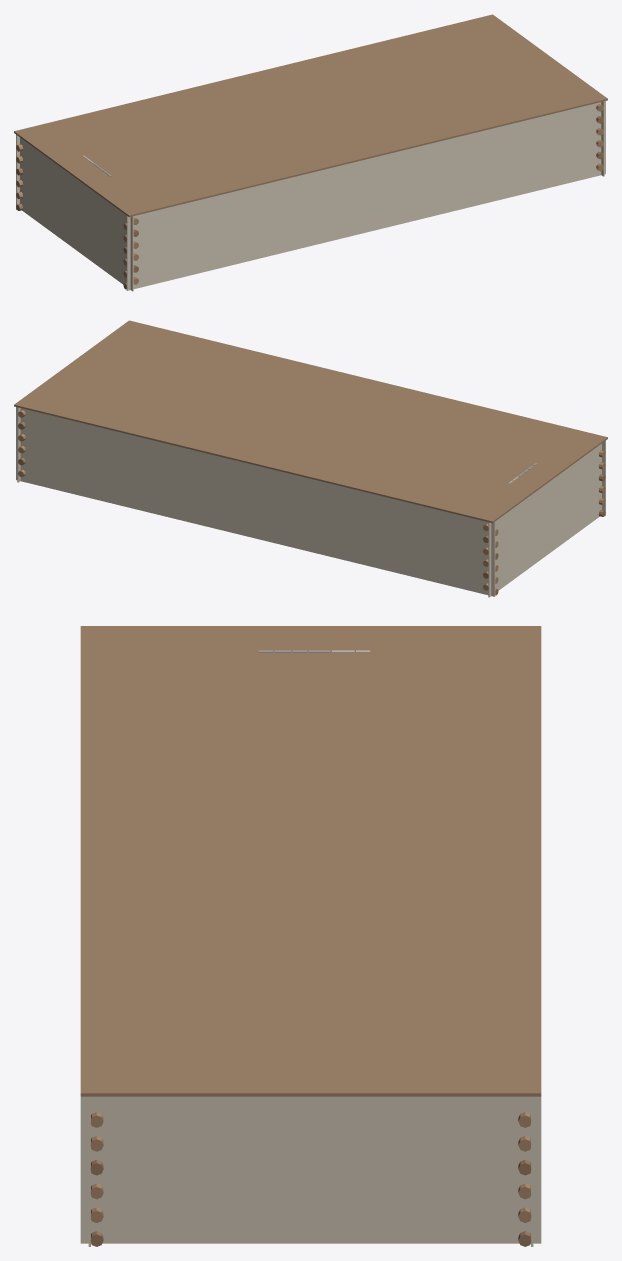
Rendered from room.glb.
The picture shows the model from 3 angles, top to bottom: view 1: azimuth 30°, elevation 25°; view 2: azimuth 150°, elevation 25°; view 3: azimuth 270°, elevation 25°; orthographic projection. The views are drawn at different scales.
Visible parts, largest first — view 1: Ceiling, Chinking back, Log back.01; view 2: Ceiling, Chinking back, Log back.01; view 3: Ceiling, Chinking back, Log back.01.
Boxes of the visible parts, x1,y1,x2,y2 form: Ceiling: [14, 14, 607, 217]; Chinking back: [16, 101, 605, 291]; Log back.01: [16, 104, 603, 284]; Ceiling: [14, 320, 607, 523]; Chinking back: [16, 407, 605, 597]; Log back.01: [18, 410, 605, 590]; Ceiling: [80, 626, 541, 1096]; Chinking back: [80, 1096, 541, 1246]; Log back.01: [90, 1112, 531, 1222].
Bounding box in the file's own units: 24 × 3.73 × 10.
